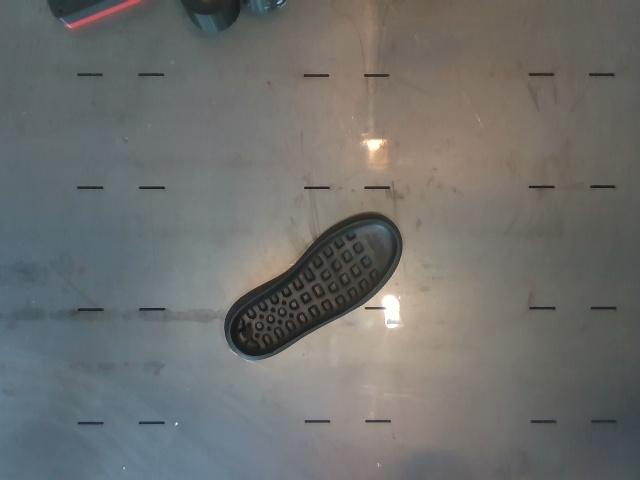shoes: (230, 221, 398, 357)
